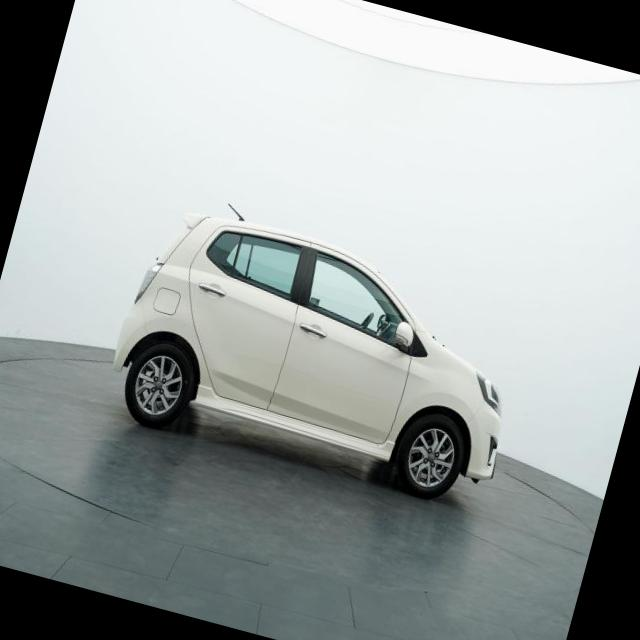PeroduaAxia: (96, 181, 546, 518)
